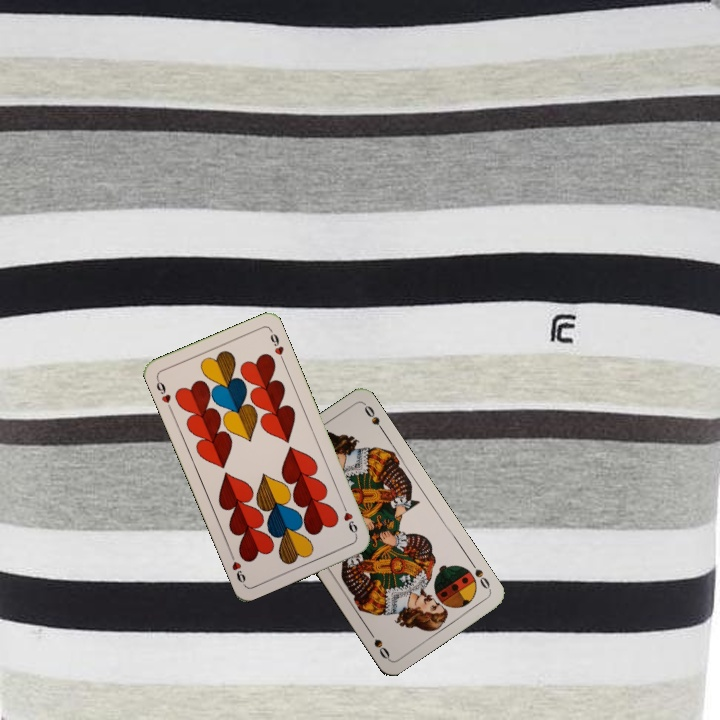H9: (152, 374, 174, 413), (338, 500, 360, 539)
SO: (466, 557, 493, 593)
